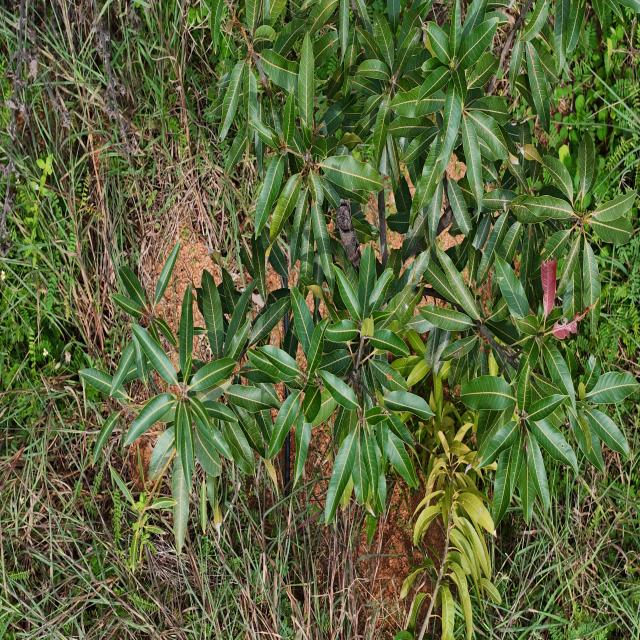mangoTree: (79, 0, 640, 640)
